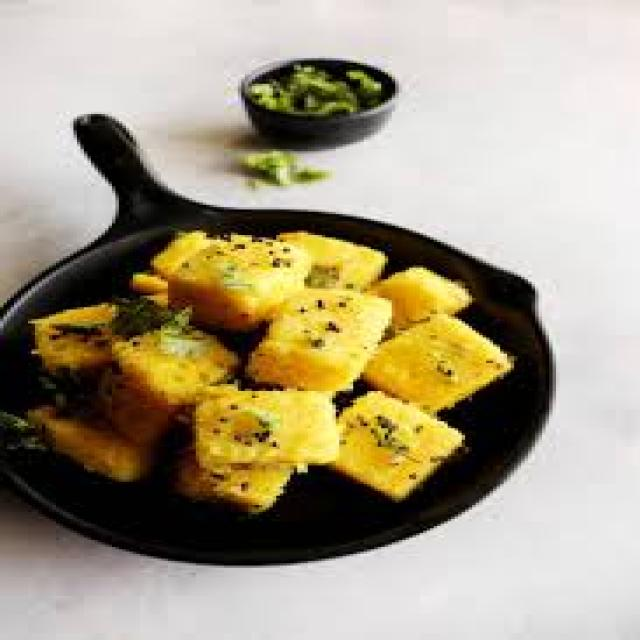DHOKLA: (101, 326, 252, 447), (243, 293, 394, 390), (368, 321, 513, 412), (334, 393, 459, 498), (173, 232, 299, 331), (32, 391, 150, 478), (38, 297, 156, 378), (200, 392, 331, 463), (282, 228, 387, 295), (277, 226, 381, 292), (367, 271, 472, 336), (185, 463, 305, 515)
